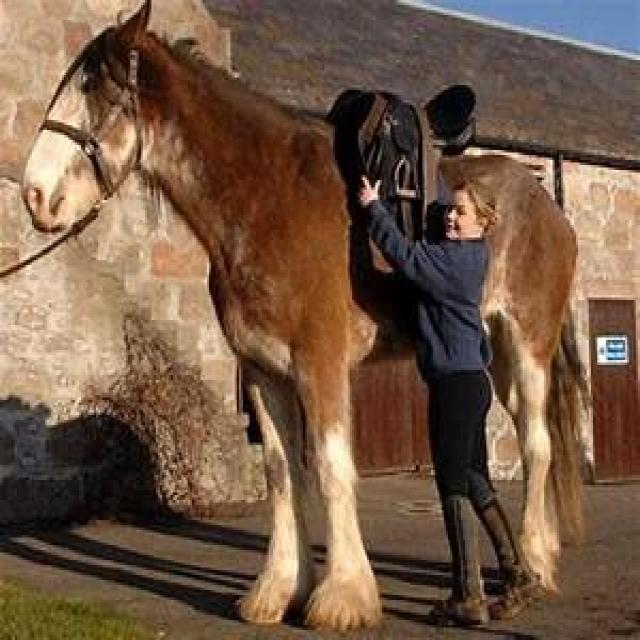horse: (24, 3, 381, 629), (445, 155, 584, 591)
